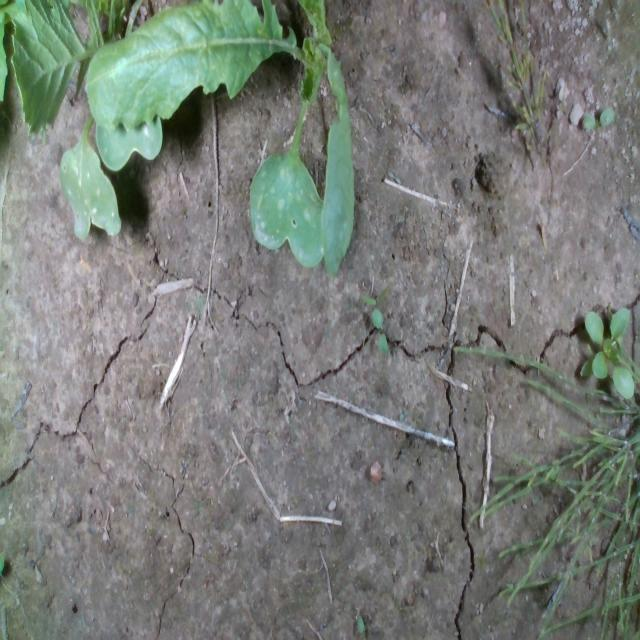weed: (371, 306, 388, 356), (581, 105, 614, 130)
